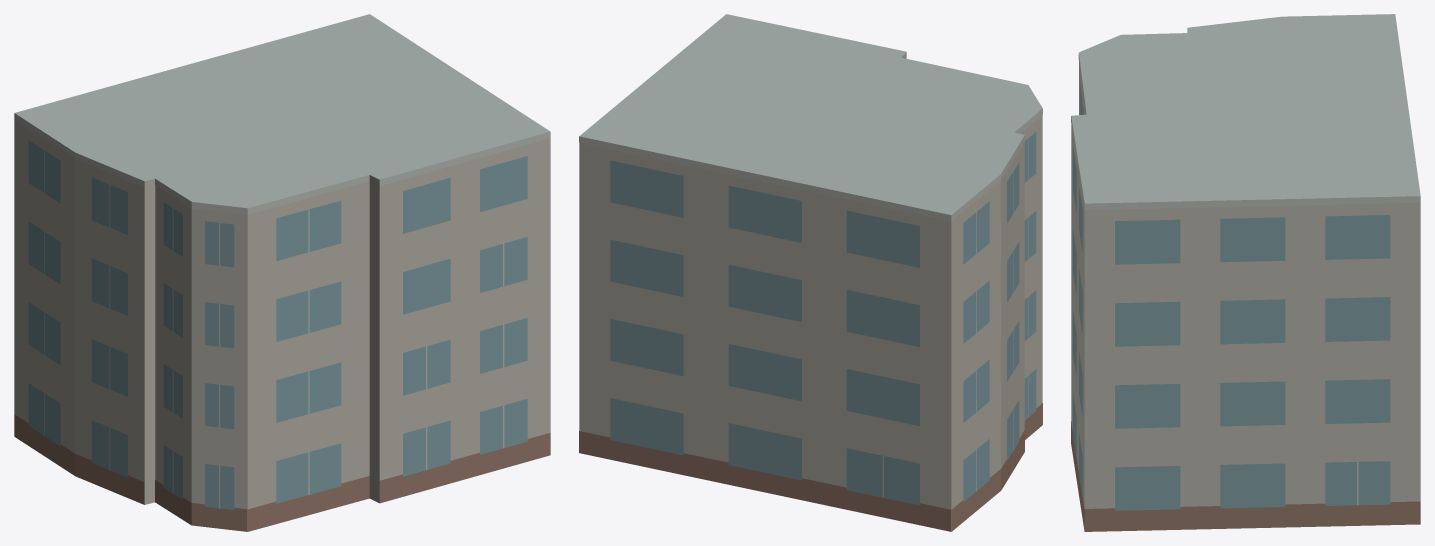
The model's file is survey-upis-32736095.glb.
3 views of the same model, side by side, from view 1: azimuth 30°, elevation 25°; view 2: azimuth 150°, elevation 25°; view 3: azimuth 270°, elevation 25° (orthographic). The views are drawn at different scales.
Visible parts, largest first — view 1: survey-upis-32736095.tmp; view 2: survey-upis-32736095.tmp; view 3: survey-upis-32736095.tmp.
Boxes of the visible parts, x1,y1,x2,y2 form: survey-upis-32736095.tmp: (14,14,550,531); survey-upis-32736095.tmp: (579,14,1042,531); survey-upis-32736095.tmp: (1071,14,1420,531).
Size of the model in its own units: 15.12 by 12.2 by 11.78.
